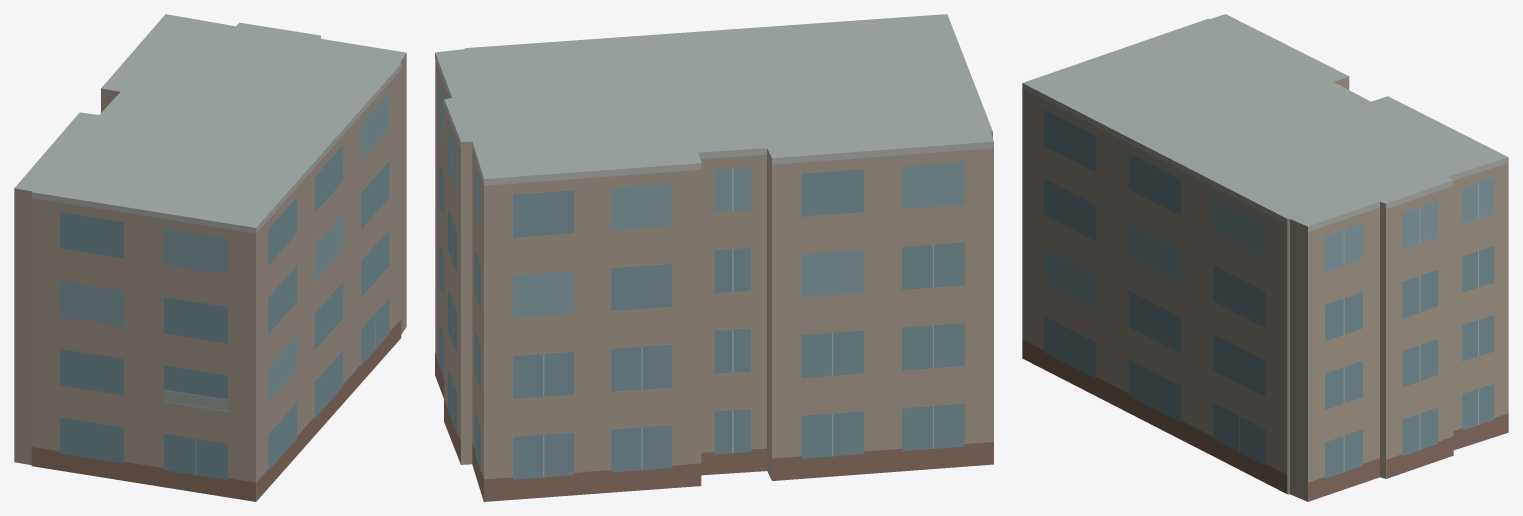
The model's file is survey-upis-32835662.glb.
3 renders of one model, left to right at view 1: azimuth 30°, elevation 25°; view 2: azimuth 150°, elevation 25°; view 3: azimuth 270°, elevation 25°, orthographic. The views are drawn at different scales.
Visible parts, largest first — view 1: survey-upis-32835662.tmp; view 2: survey-upis-32835662.tmp; view 3: survey-upis-32835662.tmp.
Part boxes in pixels (x1=…): survey-upis-32835662.tmp: x1=14, y1=14, x2=406, y2=501; survey-upis-32835662.tmp: x1=435, y1=14, x2=993, y2=501; survey-upis-32835662.tmp: x1=1022, y1=14, x2=1508, y2=501.
Bounding box in the file's own units: 19.75 × 11.93 × 19.09.
